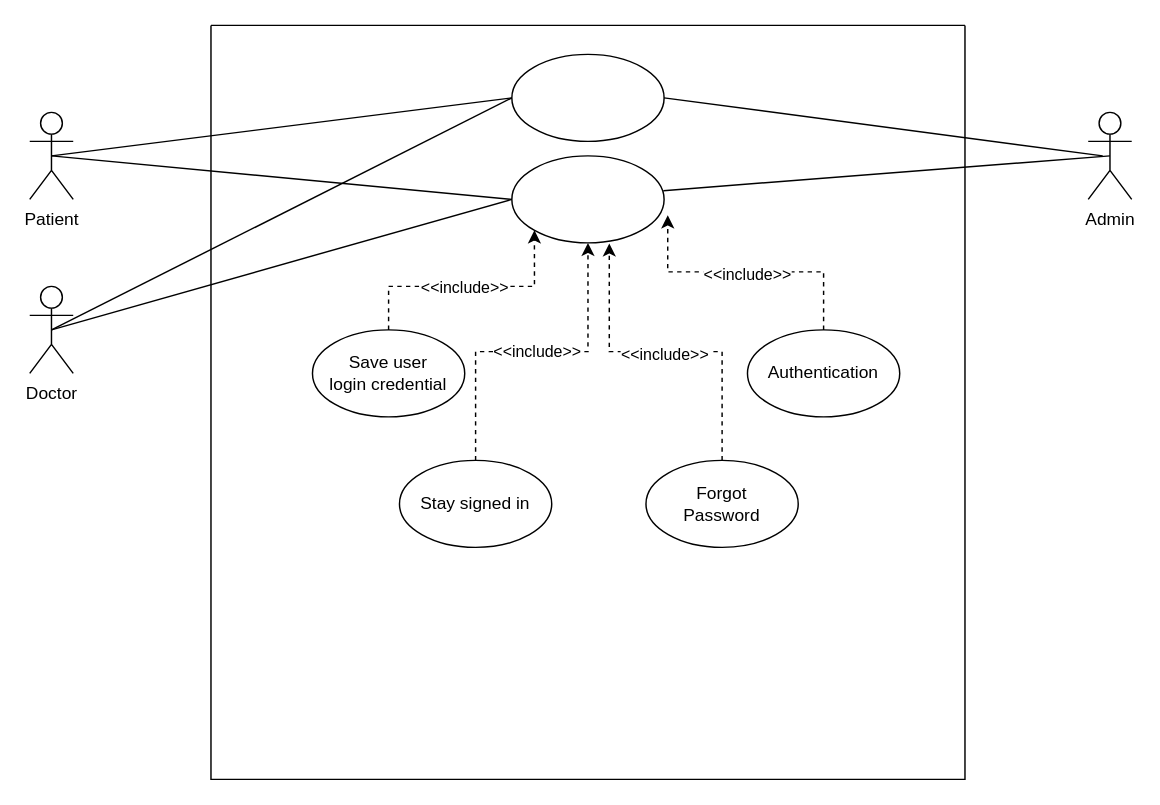
This 1160x805 diagram has some shape labels left out. The shapes that lost their labels are listed below. From the top down, each one's box as (x1, y1, x2, y2) in pixels, then its label:
(510, 53, 664, 141): Logout
(510, 154, 664, 243): Login
